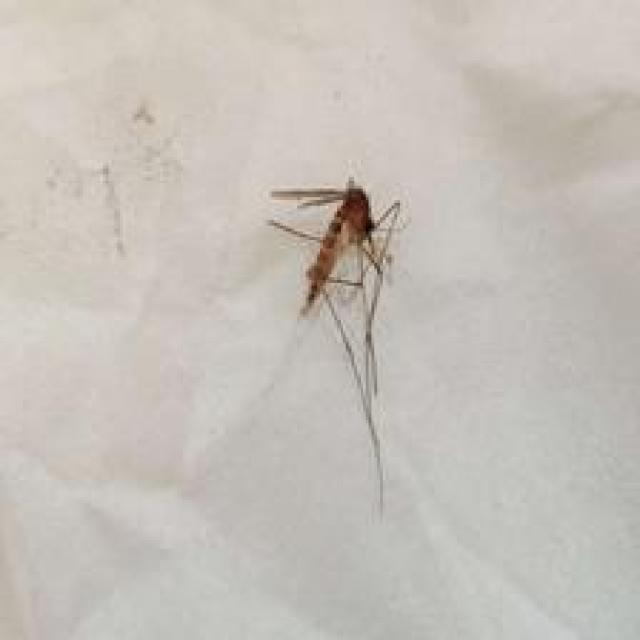Culex: (264, 175, 404, 514)
